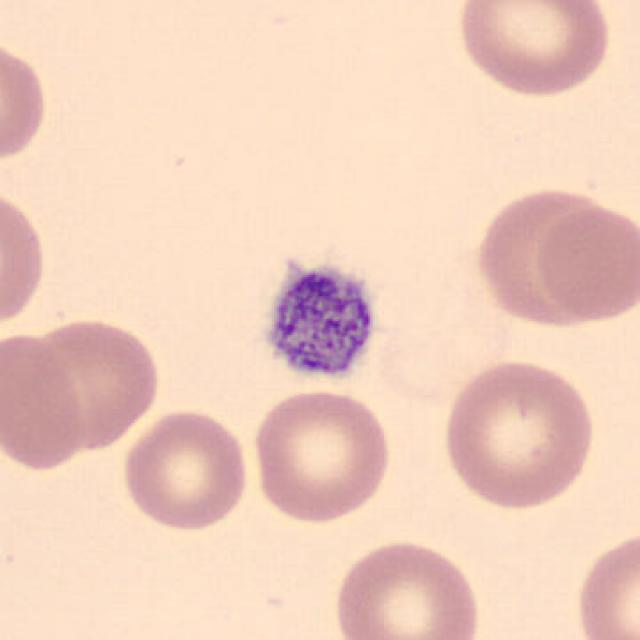Platelets: (256, 252, 382, 390)
RBC: (437, 354, 601, 513), (11, 312, 165, 458), (249, 384, 395, 528), (472, 196, 612, 330), (118, 406, 252, 534), (329, 534, 485, 640), (451, 0, 616, 100), (532, 198, 638, 330), (0, 324, 87, 474), (570, 525, 640, 639), (0, 182, 50, 335), (0, 34, 52, 170)
